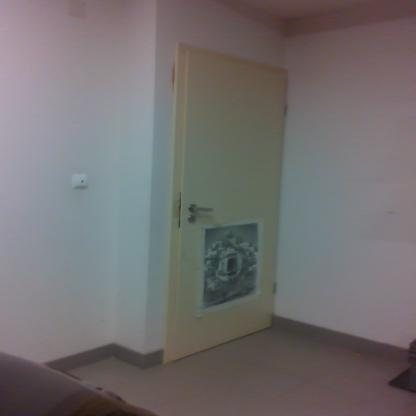closed: (160, 47, 300, 354)
